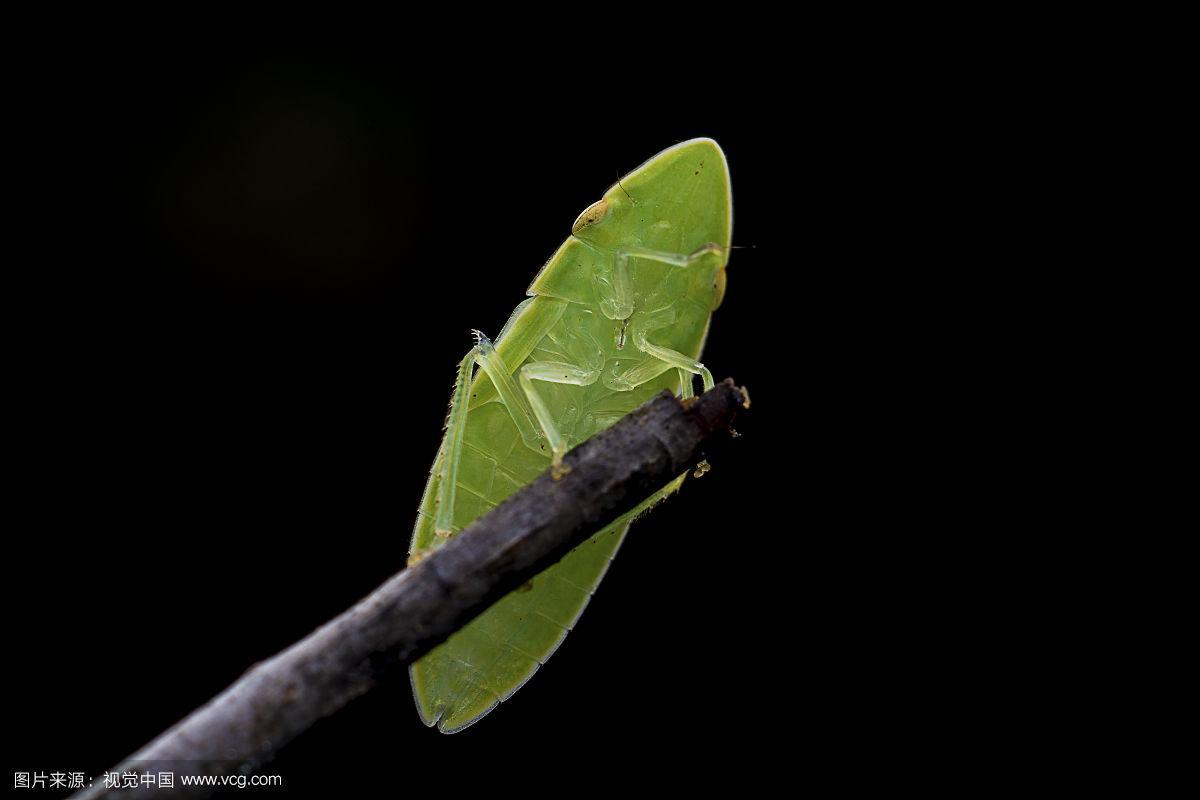Cicadellidae: (402, 135, 735, 733)
